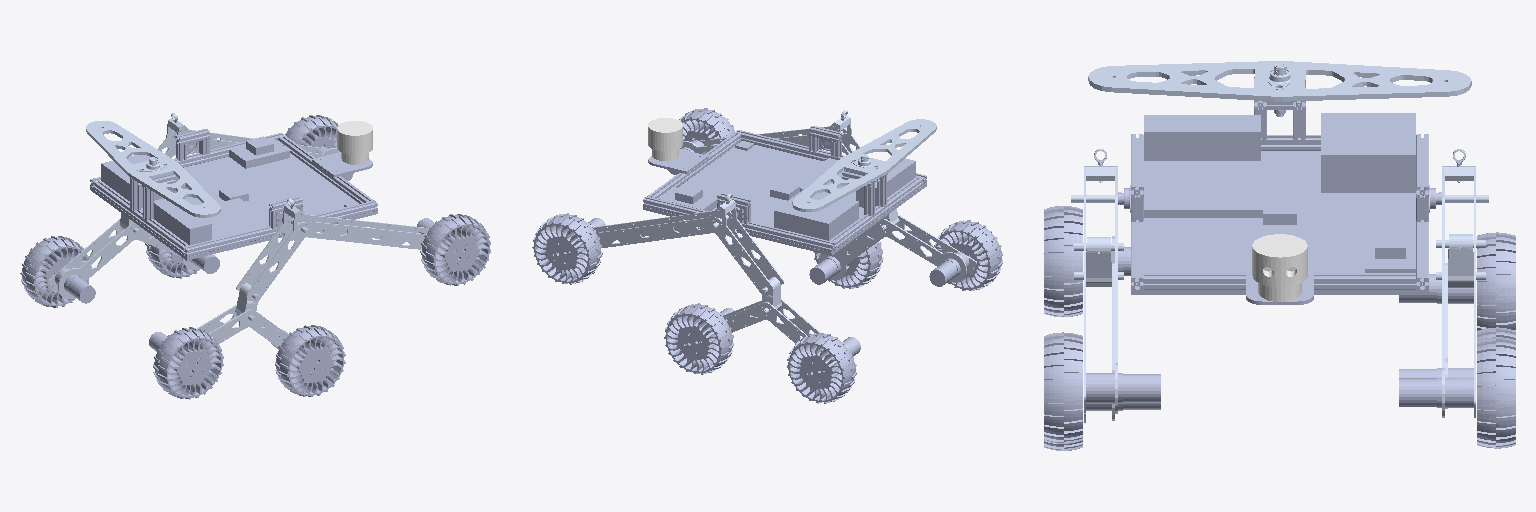
The robot description file, URDF, robot "UpdatedMiniRoverV8":
<?xml version="1.0" encoding="utf-8"?>
<!-- This URDF was automatically created by SolidWorks to URDF Exporter! Originally created by Stephen Brawner (brawner@gmail.com) 
     Commit Version: 1.6.0-4-g7f85cfe  Build Version: 1.6.7995.38578
     For more information, please see http://wiki.ros.org/sw_urdf_exporter -->
<robot
  name="UpdatedMiniRoverV8">
  <link
    name="base_link">
    <inertial>
      <origin
        xyz="-0.052189 0.0067678 0.012927"
        rpy="0 0 0" />
      <mass
        value="2.9852" />
      <inertia
        ixx="0.014337"
        ixy="-1.1922E-08"
        ixz="7.3459E-09"
        iyy="0.019036"
        iyz="-4.2142E-09"
        izz="0.032935" />
    </inertial>
    <visual>
      <origin
        xyz="0 0 0"
        rpy="0 0 0" />
      <geometry>
        <mesh
          filename="package://rover_description/meshes/mini_rover/base_link.STL" />
      </geometry>
      <material
        name="">
        <color
          rgba="0.79216 0.81961 0.93333 1" />
      </material>
    </visual>
    <collision>
      <origin
        xyz="0 0 0"
        rpy="0 0 0" />
      <geometry>
        <mesh
          filename="package://rover_description/meshes/mini_rover/base_link.STL" />
      </geometry>
    </collision>
  </link>
  <link
    name="RockerL_Link">
    <inertial>
      <origin
        xyz="0.050587 -0.035481 -0.055476"
        rpy="0 0 0" />
      <mass
        value="0.3332" />
      <inertia
        ixx="0.00034687"
        ixy="1.649E-08"
        ixz="0.00043675"
        iyy="0.0043799"
        iyz="2.7179E-08"
        izz="0.0040611" />
    </inertial>
    <visual>
      <origin
        xyz="0 0 0"
        rpy="0 0 0" />
      <geometry>
        <mesh
          filename="package://rover_description/meshes/mini_rover/left_rocker.STL" />
      </geometry>
      <material
        name="">
        <color
          rgba="0.86667 0.9098 1 1" />
      </material>
    </visual>
    <collision>
      <origin
        xyz="0 0 0"
        rpy="0 0 0" />
      <geometry>
        <mesh
          filename="package://rover_description/meshes/mini_rover/left_rocker.STL" />
      </geometry>
    </collision>
  </link>
  <joint
    name="RockerL_joint"
    type="revolute">
    <origin
      xyz="0.011312 -0.175 0.03"
      rpy="0 0 0" />
    <parent
      link="base_link" />
    <child
      link="RockerL_Link" />
    <axis
      xyz="0 1 0" />
    <limit
      lower="-0.35"
      upper="0.35"
      effort="0"
      velocity="0" />
  </joint>
  <link
    name="WFL_Link">
    <inertial>
      <origin
        xyz="-1.6522E-06 0.05007 -2.3684E-07"
        rpy="0 0 0" />
      <mass
        value="0.56504" />
      <inertia
        ixx="0.00052671"
        ixy="-9.122E-08"
        ixz="-1.1343E-07"
        iyy="0.00065637"
        iyz="6.587E-08"
        izz="0.00052657" />
    </inertial>
    <visual>
      <origin
        xyz="0 0 0"
        rpy="0 0 0" />
      <geometry>
        <mesh
          filename="package://rover_description/meshes/mini_rover/wheel_left.STL" />
      </geometry>
      <material
        name="">
        <color
          rgba="0.79216 0.81961 0.93333 1" />
      </material>
    </visual>
    <collision>
      <origin
        xyz="0 0 0"
        rpy="0 0 0" />
      <geometry>
        <mesh
          filename="package://rover_description/meshes/mini_rover/wheel_left.STL" />
      </geometry>
    </collision>
  </link>
  <joint
    name="WFL_joint"
    type="continuous">
    <origin
      xyz="0.30516 -0.10151 -0.10318"
      rpy="0 0 0" />
    <parent
      link="RockerL_Link" />
    <child
      link="WFL_Link" />
    <axis
      xyz="0 1 0" />
  </joint>
  <link
    name="BogieL_Link">
    <inertial>
      <origin
        xyz="-0.00822356220886178 -0.029139189435147 -0.0382200373029564"
        rpy="0 0 0" />
      <mass
        value="0.0702980115336159" />
      <inertia
        ixx="7.20703134768663E-05"
        ixy="-1.97219359884655E-19"
        ixz="8.92310196044317E-05"
        iyy="0.000532837466498414"
        iyz="8.88054668303088E-21"
        izz="0.000467419083063315" />
    </inertial>
    <visual>
      <origin
        xyz="0 0 0"
        rpy="0 0 0" />
      <geometry>
        <mesh
          filename="package://rover_description/meshes/mini_rover/left_bogie.STL" />
      </geometry>
      <material
        name="">
        <color
          rgba="0.866666666666667 0.909803921568627 1 1" />
      </material>
    </visual>
    <collision>
      <origin
        xyz="0 0 0"
        rpy="0 0 0" />
      <geometry>
        <mesh
          filename="package://rover_description/meshes/mini_rover/left_bogie.STL" />
      </geometry>
    </collision>
  </link>
  <joint
    name="BogieL_joint"
    type="revolute">
    <origin
      xyz="-0.1098 -0.007669 -0.15093"
      rpy="0 0 0" />
    <parent
      link="RockerL_Link" />
    <child
      link="BogieL_Link" />
    <axis
      xyz="0 1 0" />
    <limit
      lower="-1"
      upper="1.2"
      effort="0"
      velocity="0" />
  </joint>
  <link
    name="WML_Link">
    <inertial>
      <origin
        xyz="-1.6522E-06 0.05007 -2.3684E-07"
        rpy="0 0 0" />
      <mass
        value="0.56504" />
      <inertia
        ixx="0.00052671"
        ixy="-9.122E-08"
        ixz="-1.1343E-07"
        iyy="0.00065637"
        iyz="6.587E-08"
        izz="0.00052657" />
    </inertial>
    <visual>
      <origin
        xyz="0 0 0"
        rpy="0 0 0" />
      <geometry>
        <mesh
          filename="package://rover_description/meshes/mini_rover/wheel_left.STL" />
      </geometry>
      <material
        name="">
        <color
          rgba="0.79216 0.81961 0.93333 1" />
      </material>
    </visual>
    <collision>
      <origin
        xyz="0 0 0"
        rpy="0 0 0" />
      <geometry>
        <mesh
          filename="package://rover_description/meshes/mini_rover/wheel_left.STL" />
      </geometry>
    </collision>
  </link>
  <joint
    name="WML_joint"
    type="continuous">
    <origin
      xyz="0.11074 -0.093845 -0.1033"
      rpy="0 0 0" />
    <parent
      link="BogieL_Link" />
    <child
      link="WML_Link" />
    <axis
      xyz="0 1 0" />
  </joint>
  <link
    name="WBL_Link">
    <inertial>
      <origin
        xyz="-1.65221014791772E-06 0.0500702077423368 -2.36837870010165E-07"
        rpy="0 0 0" />
      <mass
        value="0.565040594888235" />
      <inertia
        ixx="0.000526714406222585"
        ixy="-9.1219621605056E-08"
        ixz="-1.13433191688736E-07"
        iyy="0.000656365395809676"
        iyz="6.58704120596969E-08"
        izz="0.000526572989890173" />
    </inertial>
    <visual>
      <origin
        xyz="0 0 0"
        rpy="0 0 0" />
      <geometry>
        <mesh
          filename="package://rover_description/meshes/mini_rover/wheel_left.STL" />
      </geometry>
      <material
        name="">
        <color
          rgba="0.792156862745098 0.819607843137255 0.933333333333333 1" />
      </material>
    </visual>
    <collision>
      <origin
        xyz="0 0 0"
        rpy="0 0 0" />
      <geometry>
        <mesh
          filename="package://rover_description/meshes/mini_rover/wheel_left.STL" />
      </geometry>
    </collision>
  </link>
  <joint
    name="WBL_joint"
    type="continuous">
    <origin
      xyz="-0.14343 -0.093845 -0.048586"
      rpy="0 0 0" />
    <parent
      link="BogieL_Link" />
    <child
      link="WBL_Link" />
    <axis
      xyz="0 1 0" />
  </joint>
  <link
    name="RockerR_Link">
    <inertial>
      <origin
        xyz="0.049722 0.035469 -0.056738"
        rpy="0 0 0" />
      <mass
        value="0.3332" />
      <inertia
        ixx="0.00037047"
        ixy="1.1846E-08"
        ixz="0.00052743"
        iyy="0.0043799"
        iyz="2.95E-08"
        izz="0.0040375" />
    </inertial>
    <visual>
      <origin
        xyz="0 0 0"
        rpy="0 0 0" />
      <geometry>
        <mesh
          filename="package://rover_description/meshes/mini_rover/right_rocker.STL" />
      </geometry>
      <material
        name="">
        <color
          rgba="0.86667 0.9098 1 1" />
      </material>
    </visual>
    <collision>
      <origin
        xyz="0 0 0"
        rpy="0 0 0" />
      <geometry>
        <mesh
          filename="package://rover_description/meshes/mini_rover/right_rocker.STL" />
      </geometry>
    </collision>
  </link>
  <joint
    name="RockerR_joint"
    type="revolute">
    <origin
      xyz="0.011312 0.175 0.03"
      rpy="0 0 0" />
    <parent
      link="base_link" />
    <child
      link="RockerR_Link" />
    <axis
      xyz="0 1 0" />
    <limit
      lower="-0.35"
      upper="0.35"
      effort="0"
      velocity="0" />
    <!-- Rockers are coupled through the differential: R = -L -->
    <mimic
      joint="RockerL_joint"
      multiplier="-1"
      offset="0" />
  </joint>
  <link
    name="WFR_Link">
    <inertial>
      <origin
        xyz="1.51271630784156E-06 -0.0500702077423439 7.05393330274751E-07"
        rpy="0 0 0" />
      <mass
        value="0.565040594888118" />
      <inertia
        ixx="0.000526570192540395"
        ixy="-4.03388131450316E-08"
        ixz="1.10857187516814E-07"
        iyy="0.00065636539580952"
        iyz="-1.0503671122421E-07"
        izz="0.000526717203572179" />
    </inertial>
    <visual>
      <origin
        xyz="0 0 0"
        rpy="0 0 0" />
      <geometry>
        <mesh
          filename="package://rover_description/meshes/mini_rover/wheel_right.STL" />
      </geometry>
      <material
        name="">
        <color
          rgba="0.792156862745098 0.819607843137255 0.933333333333333 1" />
      </material>
    </visual>
    <collision>
      <origin
        xyz="0 0 0"
        rpy="0 0 0" />
      <geometry>
        <mesh
          filename="package://rover_description/meshes/mini_rover/wheel_right.STL" />
      </geometry>
    </collision>
  </link>
  <joint
    name="WFR_joint"
    type="continuous">
    <origin
      xyz="0.30259 0.10151 -0.11049"
      rpy="0 0 0" />
    <parent
      link="RockerR_Link" />
    <child
      link="WFR_Link" />
    <axis
      xyz="0 1 0" />
  </joint>
  <link
    name="BogieR_Link">
    <inertial>
      <origin
        xyz="-0.00026789 0.029131 -0.039094"
        rpy="0 0 0" />
      <mass
        value="0.070298" />
      <inertia
        ixx="5.2885E-05"
        ixy="-5.2376E-20"
        ixz="3.0061E-06"
        iyy="0.00053284"
        iyz="1.8862E-20"
        izz="0.0004866" />
    </inertial>
    <visual>
      <origin
        xyz="0 0 0"
        rpy="0 0 0" />
      <geometry>
        <mesh
          filename="package://rover_description/meshes/mini_rover/right_bogie.STL" />
      </geometry>
      <material
        name="">
        <color
          rgba="0.86667 0.9098 1 1" />
      </material>
    </visual>
    <collision>
      <origin
        xyz="0 0 0"
        rpy="0 0 0" />
      <geometry>
        <mesh
          filename="package://rover_description/meshes/mini_rover/right_bogie.STL" />
      </geometry>
    </collision>
  </link>
  <joint
    name="BogieR_joint"
    type="revolute">
    <origin
      xyz="-0.10561 0.007669 -0.14922"
      rpy="0 0 0" />
    <parent
      link="RockerR_Link" />
    <child
      link="BogieR_Link" />
    <axis
      xyz="0 1 0" />
    <limit
      lower="-1"
      upper="1.2"
      effort="0"
      velocity="0" />
  </joint>
  <link
    name="WMR_Link">
    <inertial>
      <origin
        xyz="1.5127E-06 -0.05007 7.0539E-07"
        rpy="0 0 0" />
      <mass
        value="0.56504" />
      <inertia
        ixx="0.00052657"
        ixy="-4.0339E-08"
        ixz="1.1086E-07"
        iyy="0.00065637"
        iyz="-1.0504E-07"
        izz="0.00052672" />
    </inertial>
    <visual>
      <origin
        xyz="0 0 0"
        rpy="0 0 0" />
      <geometry>
        <mesh
          filename="package://rover_description/meshes/mini_rover/wheel_right.STL" />
      </geometry>
      <material
        name="">
        <color
          rgba="0.79216 0.81961 0.93333 1" />
      </material>
    </visual>
    <collision>
      <origin
        xyz="0 0 0"
        rpy="0 0 0" />
      <geometry>
        <mesh
          filename="package://rover_description/meshes/mini_rover/wheel_right.STL" />
      </geometry>
    </collision>
  </link>
  <joint
    name="WMR_joint"
    type="continuous">
    <origin
      xyz="0.12946 0.093845 -0.078578"
      rpy="0 0 0" />
    <parent
      link="BogieR_Link" />
    <child
      link="WMR_Link" />
    <axis
      xyz="0 1 0" />
  </joint>
  <link
    name="WBR_Link">
    <inertial>
      <origin
        xyz="1.5117E-06 -0.05007 7.0398E-07"
        rpy="0 0 0" />
      <mass
        value="0.56504" />
      <inertia
        ixx="0.00052657"
        ixy="-4.0339E-08"
        ixz="1.1084E-07"
        iyy="0.00065637"
        iyz="-1.0504E-07"
        izz="0.00052672" />
    </inertial>
    <visual>
      <origin
        xyz="0 0 0"
        rpy="0 0 0" />
      <geometry>
        <mesh
          filename="package://rover_description/meshes/mini_rover/wheel_right.STL" />
      </geometry>
      <material
        name="">
        <color
          rgba="0.79216 0.81961 0.93333 1" />
      </material>
    </visual>
    <collision>
      <origin
        xyz="0 0 0"
        rpy="0 0 0" />
      <geometry>
        <mesh
          filename="package://rover_description/meshes/mini_rover/wheel_right.STL" />
      </geometry>
    </collision>
  </link>
  <joint
    name="WBR_joint"
    type="continuous">
    <origin
      xyz="-0.13053 0.093845 -0.076778"
      rpy="0 0 0" />
    <parent
      link="BogieR_Link" />
    <child
      link="WBR_Link" />
    <axis
      xyz="0 1 0" />
  </joint>
  <link
    name="Differential_Link">
    <inertial>
      <origin
        xyz="5.0208E-07 2.8016E-07 0.044658"
        rpy="0 0 0" />
      <mass
        value="0.49598" />
      <inertia
        ixx="0.0065993"
        ixy="-0.00019432"
        ixz="7.4724E-09"
        iyy="0.00031286"
        iyz="3.9855E-09"
        izz="0.0068992" />
    </inertial>
    <visual>
      <origin
        xyz="0 0 0"
        rpy="0 0 0" />
      <geometry>
        <mesh
          filename="package://rover_description/meshes/mini_rover/differential.STL" />
      </geometry>
      <material
        name="">
        <color
          rgba="0.86667 0.9098 1 1" />
      </material>
    </visual>
    <collision>
      <origin
        xyz="0 0 0"
        rpy="0 0 0" />
      <geometry>
        <mesh
          filename="package://rover_description/meshes/mini_rover/differential.STL" />
      </geometry>
    </collision>
  </link>
  <joint
    name="Differential_joint"
    type="revolute">
    <origin
      xyz="-0.16869 0 0.053808"
      rpy="0 0 0" />
    <parent
      link="base_link" />
    <child
      link="Differential_Link" />
    <axis
      xyz="0 0 1" />
    <limit
      lower="-0.35"
      upper="0.35"
      effort="0"
      velocity="0" />
    <!-- Differential bar follows the rockers via link rods (rocker top tab -> bar end, rod ~along x).
         multiplier = rocker tab lever / bar arm = 0.0524 m / 0.21 m ~= 0.25 (small-angle). -->
    <mimic
      joint="RockerL_joint"
      multiplier="0.25"
      offset="0" />
  </joint>
  <link
    name="LiDAR_Link">
    <inertial>
      <origin
        xyz="-0.000496605793485996 -5.38218054568773E-08 -0.0276950435927863"
        rpy="0 0 0" />
      <mass
        value="0.182867569545744" />
      <inertia
        ixx="9.71416474492634E-05"
        ixy="3.04723500696644E-10"
        ixz="6.62518701274272E-07"
        iyy="9.57887030791969E-05"
        iyz="3.16376323027782E-11"
        izz="8.5472627961037E-05" />
    </inertial>
    <visual>
      <origin
        xyz="0 0 0"
        rpy="0 0 0" />
      <geometry>
        <mesh
          filename="package://rover_description/meshes/misc/mini_rover_lidar.STL" />
      </geometry>
      <material
        name="">
        <color
          rgba="1 1 1 0.35" />
      </material>
    </visual>
    <collision>
      <origin
        xyz="0 0 0"
        rpy="0 0 0" />
      <geometry>
        <mesh
          filename="package://rover_description/meshes/misc/mini_rover_lidar.STL" />
      </geometry>
    </collision>
  </link>
  <joint
    name="LiDAR_joint"
    type="fixed">
    <origin
      xyz="0.253 0 0.08166"
      rpy="0 0 0" />
    <parent
      link="base_link" />
    <child
      link="LiDAR_Link" />
    <axis
      xyz="0 0 0" />
  </joint>
  <!-- Scanse Sweep scan plane / optical centre. Set the driver's frame_id to this link.
       z: lens centre measured from the mesh (link origin is the top of the head); the datasheet
       (beam 33 mm above the 52.8 mm sensor base = 19.8 mm below the top) agrees within 0.6 mm.
       x points at the sensor's 0 deg (status LED); Sweep spins CCW seen from above (REP-103 positive yaw). -->
  <link
    name="lidar_scan_link" />
  <joint
    name="lidar_scan_joint"
    type="fixed">
    <origin
      xyz="0 0 -0.0204"
      rpy="0 0 0" />
    <parent
      link="LiDAR_Link" />
    <child
      link="lidar_scan_link" />
  </joint>
  <link
    name="IMU_Link">
    <inertial>
      <origin
        xyz="0 -2.2204E-16 -0.007"
        rpy="0 0 0" />
      <mass
        value="0.0224" />
      <inertia
        ixx="3.3525E-06"
        ixy="-9.1135E-23"
        ixz="-4.3713E-21"
        iyy="3.3525E-06"
        iyz="9.0907E-22"
        izz="5.9733E-06" />
    </inertial>
    <visual>
      <origin
        xyz="0 0 0"
        rpy="0 0 0" />
      <geometry>
        <mesh
          filename="package://rover_description/meshes/misc/mini_rover_imu.STL" />
      </geometry>
      <material
        name="">
        <color
          rgba="0.79216 0.81961 0.93333 1" />
      </material>
    </visual>
    <collision>
      <origin
        xyz="0 0 0"
        rpy="0 0 0" />
      <geometry>
        <mesh
          filename="package://rover_description/meshes/misc/mini_rover_imu.STL" />
      </geometry>
    </collision>
  </link>
  <joint
    name="IMU_joint"
    type="fixed">
    <origin
      xyz="0 0 0.014"
      rpy="0 0 0" />
    <parent
      link="base_link" />
    <child
      link="IMU_Link" />
    <axis
      xyz="0 0 0" />
  </joint>
  <link
    name="GPS1_Link">
    <inertial>
      <origin
        xyz="-1.6515E-15 -3.3307E-16 -0.019545"
        rpy="0 0 0" />
      <mass
        value="0.10424" />
      <inertia
        ixx="3.3117E-05"
        ixy="-8.2422E-20"
        ixz="1.2009E-20"
        iyy="6.8334E-05"
        iyz="-3.3951E-20"
        izz="9.0122E-05" />
    </inertial>
    <visual>
      <origin
        xyz="0 0 0"
        rpy="0 0 0" />
      <geometry>
        <mesh
          filename="package://rover_description/meshes/misc/mini_rover_gps1.STL" />
      </geometry>
      <material
        name="">
        <color
          rgba="0.79216 0.81961 0.93333 1" />
      </material>
    </visual>
    <collision>
      <origin
        xyz="0 0 0"
        rpy="0 0 0" />
      <geometry>
        <mesh
          filename="package://rover_description/meshes/misc/mini_rover_gps1.STL" />
      </geometry>
    </collision>
  </link>
  <joint
    name="GPS1_joint"
    type="fixed">
    <origin
      xyz="0.1285 0.13 0.03"
      rpy="0 0 0" />
    <parent
      link="base_link" />
    <child
      link="GPS1_Link" />
    <axis
      xyz="0 0 0" />
  </joint>
  <link
    name="GPS2_Link">
    <inertial>
      <origin
        xyz="5.55111512312578E-17 0 -0.00249999999999894"
        rpy="0 0 0" />
      <mass
        value="0.003125" />
      <inertia
        ixx="1.69270833333334E-07"
        ixy="-1.43894930680648E-22"
        ixz="-1.03576687527432E-22"
        iyy="1.69270833333333E-07"
        iyz="-4.17546722936064E-23"
        izz="3.25520833333334E-07" />
    </inertial>
    <visual>
      <origin
        xyz="0 0 0"
        rpy="0 0 0" />
      <geometry>
        <mesh
          filename="package://rover_description/meshes/misc/mini_rover_gps2.STL" />
      </geometry>
      <material
        name="">
        <color
          rgba="0.792156862745098 0.819607843137255 0.933333333333333 1" />
      </material>
    </visual>
    <collision>
      <origin
        xyz="0 0 0"
        rpy="0 0 0" />
      <geometry>
        <mesh
          filename="package://rover_description/meshes/misc/mini_rover_gps2.STL" />
      </geometry>
    </collision>
  </link>
  <joint
    name="GPS2_joint"
    type="fixed">
    <origin
      xyz="0.1675 -0.1425 0.005"
      rpy="0 0 0" />
    <parent
      link="base_link" />
    <child
      link="GPS2_Link" />
    <axis
      xyz="0 0 0" />
  </joint>
</robot>

--- What the picture shows (computed from the rendered views, not written in the file) ---
Views: 3 orthographic renders of the robot side by side, from view 1: azimuth 30°, elevation 25°; view 2: azimuth 150°, elevation 25°; view 3: azimuth 270°, elevation 25°.
Robot: UpdatedMiniRoverV8 — 17 links, 16 joints (5 revolute, 6 continuous, 5 fixed); root link base_link; default pose: all joints at 0.
Links seen in each view (by area): view 1: base_link, RockerL_Link, Differential_Link, WBL_Link, WFL_Link, WML_Link, WBR_Link, BogieR_Link, BogieL_Link, WFR_Link, LiDAR_Link, RockerR_Link (+2 smaller); view 2: base_link, RockerR_Link, Differential_Link, WBR_Link, WFR_Link, WMR_Link, WBL_Link, BogieL_Link, WML_Link, BogieR_Link, RockerL_Link, WFL_Link (+2 smaller); view 3: base_link, Differential_Link, WFL_Link, WFR_Link, WBR_Link, WBL_Link, RockerR_Link, RockerL_Link, LiDAR_Link, GPS1_Link, WMR_Link, IMU_Link (+2 smaller).
Link boxes in pixels (x1=…): base_link: x1=90, y1=129, x2=377, y2=260; RockerL_Link: x1=235, y1=198, x2=433, y2=315; Differential_Link: x1=86, y1=121, x2=220, y2=217; WBL_Link: x1=149, y1=327, x2=223, y2=399; WFL_Link: x1=417, y1=214, x2=490, y2=285; WML_Link: x1=271, y1=325, x2=345, y2=396; WBR_Link: x1=20, y1=236, x2=95, y2=307; BogieR_Link: x1=47, y1=218, x2=199, y2=298; BogieL_Link: x1=160, y1=305, x2=288, y2=346; WFR_Link: x1=285, y1=115, x2=353, y2=180; LiDAR_Link: x1=337, y1=121, x2=372, y2=164; RockerR_Link: x1=120, y1=113, x2=339, y2=229; base_link: x1=643, y1=126, x2=926, y2=255; RockerR_Link: x1=590, y1=194, x2=783, y2=310; Differential_Link: x1=792, y1=119, x2=936, y2=211; WBR_Link: x1=787, y1=333, x2=860, y2=403; WFR_Link: x1=532, y1=213, x2=605, y2=284; WMR_Link: x1=664, y1=303, x2=734, y2=374; WBL_Link: x1=929, y1=220, x2=1002, y2=290; BogieL_Link: x1=818, y1=215, x2=976, y2=282; WML_Link: x1=809, y1=242, x2=883, y2=288; BogieR_Link: x1=723, y1=299, x2=848, y2=348; RockerL_Link: x1=680, y1=110, x2=899, y2=225; WFL_Link: x1=667, y1=108, x2=734, y2=174; base_link: x1=1118, y1=77, x2=1441, y2=304; Differential_Link: x1=1088, y1=61, x2=1471, y2=116; WFL_Link: x1=1044, y1=332, x2=1160, y2=443; WFR_Link: x1=1399, y1=337, x2=1515, y2=448; WBR_Link: x1=1399, y1=232, x2=1515, y2=330; WBL_Link: x1=1044, y1=206, x2=1130, y2=316; RockerR_Link: x1=1436, y1=149, x2=1488, y2=417; RockerL_Link: x1=1071, y1=149, x2=1123, y2=413; LiDAR_Link: x1=1252, y1=234, x2=1307, y2=301; GPS1_Link: x1=1365, y1=234, x2=1415, y2=272; WMR_Link: x1=1399, y1=327, x2=1515, y2=377; IMU_Link: x1=1263, y1=200, x2=1296, y2=224.
Size in the robot's own frame: 0.6894 by 0.553 by 0.4085 metres.
Meshes: 12 distinct files referenced, 16 mesh visuals loaded (12 binary STL).
